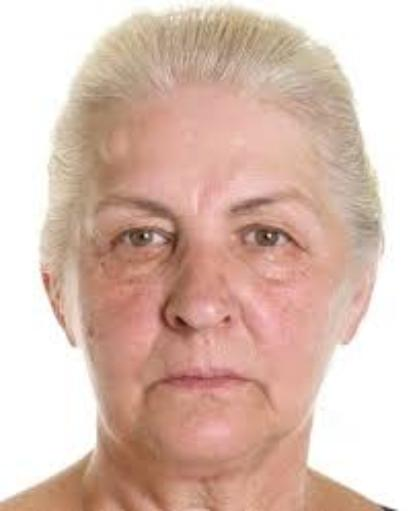left_eye: (237, 227, 305, 258)
left_lip_corner: (240, 371, 264, 394)
right_eye: (114, 228, 173, 256)
right_lip_corner: (147, 374, 171, 395)
